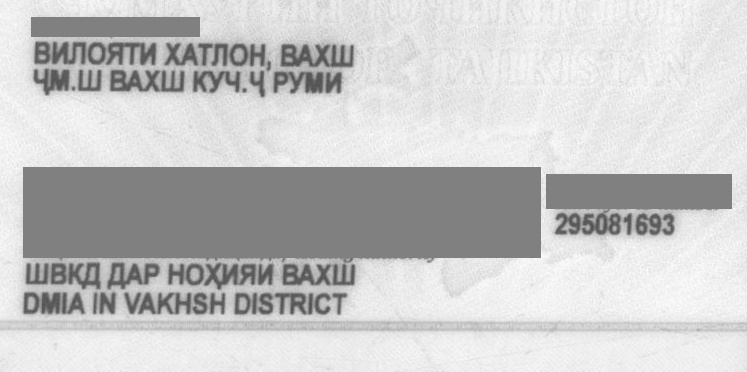0: (593, 208, 613, 236)
1: (621, 209, 635, 237)
2: (552, 208, 572, 236)
3: (661, 210, 679, 238)
5: (580, 208, 600, 236)
6: (635, 209, 653, 237)
8: (607, 209, 625, 237)
9: (566, 208, 586, 236), (646, 209, 666, 237)
А: (126, 62, 146, 100), (295, 252, 313, 292), (297, 38, 317, 72), (128, 254, 144, 294), (182, 37, 200, 71)
В: (45, 255, 67, 295), (279, 252, 299, 292), (112, 62, 128, 100), (36, 37, 52, 71), (282, 38, 298, 72)
Д: (106, 254, 128, 294), (82, 255, 98, 295)
И: (326, 64, 350, 102), (140, 37, 164, 71), (219, 253, 237, 293), (48, 37, 68, 71), (257, 252, 271, 292)
К: (187, 63, 209, 101), (65, 255, 83, 295)
Л: (67, 37, 87, 71), (213, 38, 229, 72)
М: (267, 63, 339, 101), (48, 62, 68, 100)
Н: (163, 254, 185, 294), (245, 38, 265, 72)
О: (183, 253, 203, 293), (85, 37, 105, 71), (228, 38, 248, 72)
Р: (251, 63, 273, 101), (144, 254, 154, 294)
Т: (128, 37, 144, 71), (201, 37, 217, 71)
У: (208, 63, 224, 101), (269, 63, 277, 101)
Х: (144, 62, 162, 100), (165, 37, 185, 71), (316, 252, 332, 292), (317, 38, 333, 72)
Ч: (223, 63, 239, 101), (36, 62, 50, 100), (250, 63, 260, 101)
Ш: (159, 62, 195, 100), (77, 62, 111, 100), (329, 38, 363, 72), (24, 256, 44, 296), (332, 251, 342, 291)
Я: (238, 253, 258, 293), (105, 37, 127, 71)
Ҳ: (203, 253, 223, 293)
